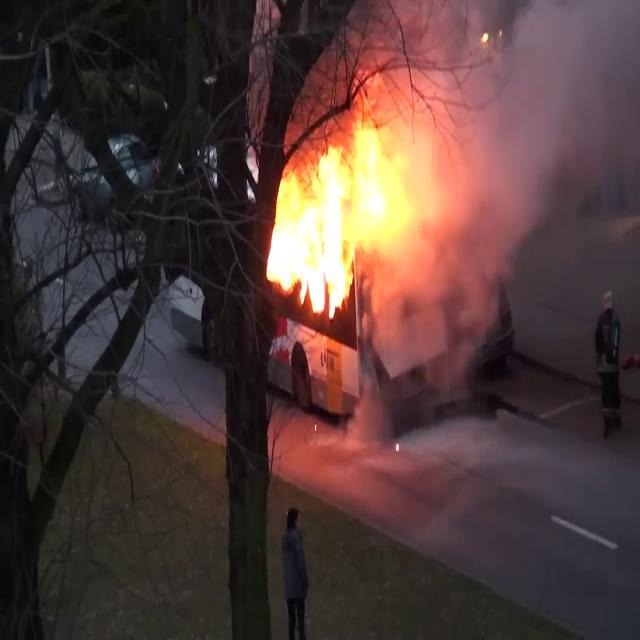Fire: (261, 108, 447, 328)
Smoke: (408, 0, 640, 409)
